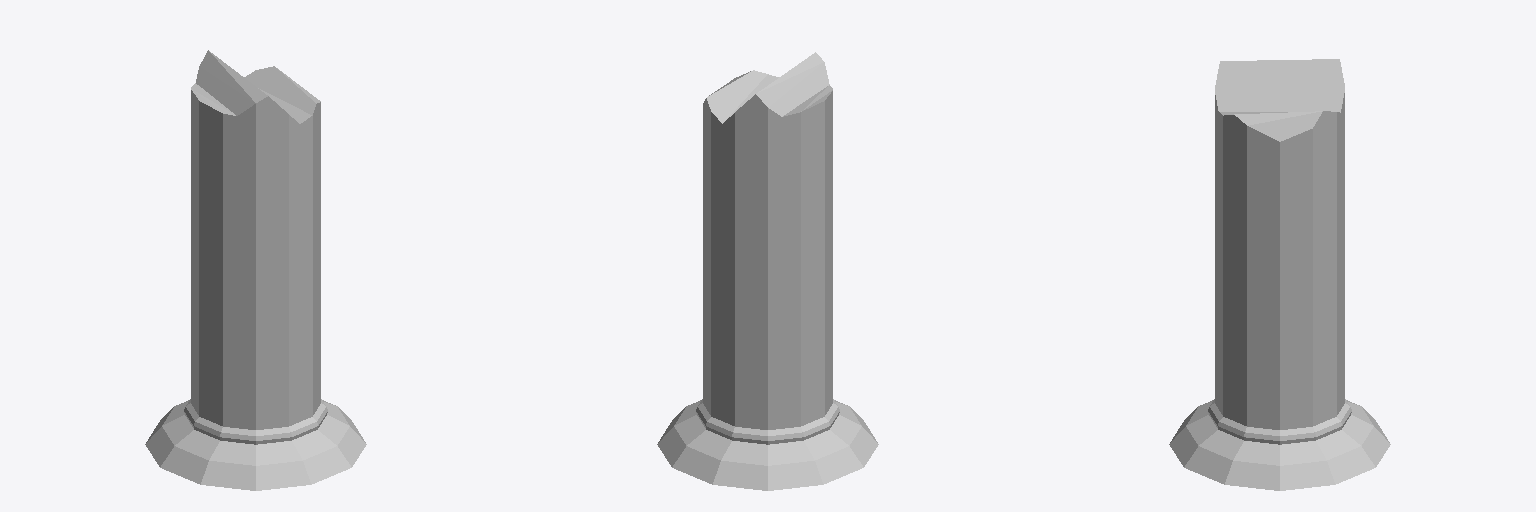
File: pillar broken.obj
The picture shows the model from 3 angles: view 1: azimuth 30°, elevation 25°; view 2: azimuth 150°, elevation 25°; view 3: azimuth 270°, elevation 25°; orthographic projection.
Parts seen in each view (by area): view 1: Cylinder; view 2: Cylinder; view 3: Cylinder.
Part boxes in pixels (x1,y1,x2,y2): Cylinder: (145,50,366,490); Cylinder: (657,52,878,490); Cylinder: (1169,59,1390,490).
Size of the model in its own units: 3.12 by 5.84 by 3.12.